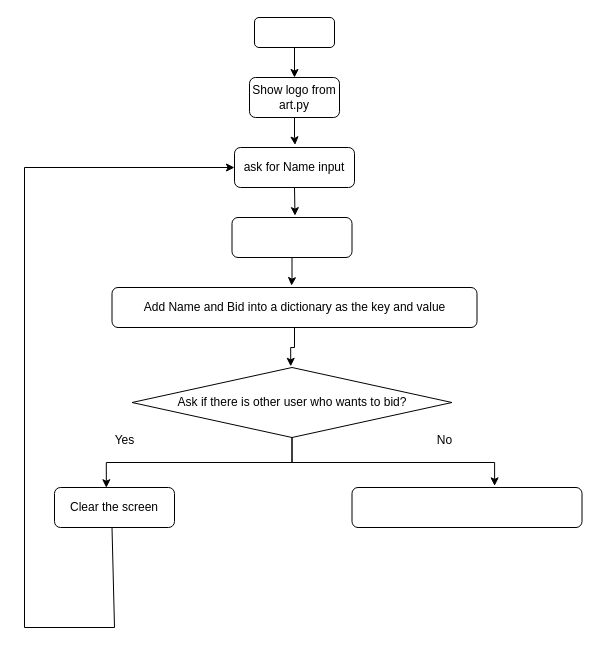
Some shapes in this 600 by 646 pixel diagram are drawn without their labels. Here are the shapes that lost their labels. From the top down, the box of each, then its label:
(254, 16, 334, 48): Start
(231, 216, 352, 258): ask for Bid Price
(351, 486, 582, 528): Find the highest bidders from the dictionary and declare them as the winner
